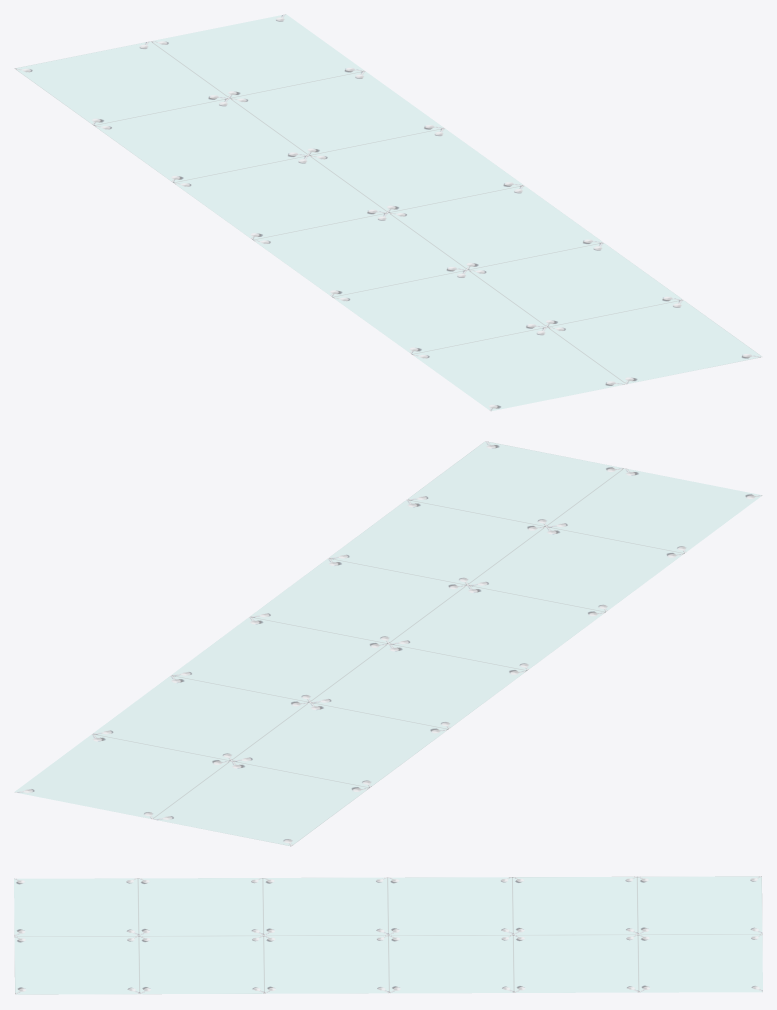
3 views of the same model, one above another, from view 1: azimuth 30°, elevation 25°; view 2: azimuth 150°, elevation 25°; view 3: azimuth 270°, elevation 25° (orthographic). The views are drawn at different scales.
Visible parts, largest first — view 1: 1007??; view 2: 1007??; view 3: 1007??.
Part boxes in pixels (x1,y1,x2,y2): 1007??: [15, 14, 761, 410]; 1007??: [15, 441, 761, 845]; 1007??: [14, 876, 762, 994].
Bounding box in the file's own units: 7.34 × 0.3531 × 21.47.
1 material, 1 textured.
